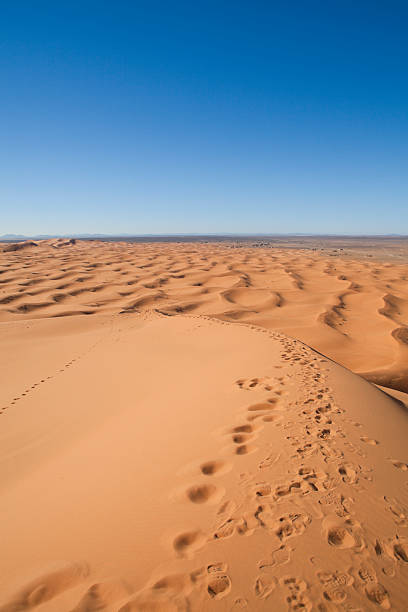animal_footprint: (3, 562, 88, 610), (323, 517, 364, 550), (317, 570, 353, 603), (281, 576, 311, 611), (207, 563, 232, 600), (173, 530, 206, 557), (185, 483, 223, 503), (254, 573, 276, 598), (200, 460, 231, 475), (339, 466, 356, 482), (390, 459, 407, 471), (360, 436, 379, 445), (233, 424, 252, 431), (233, 434, 247, 443), (238, 444, 249, 454), (375, 541, 381, 554), (264, 416, 277, 421)
